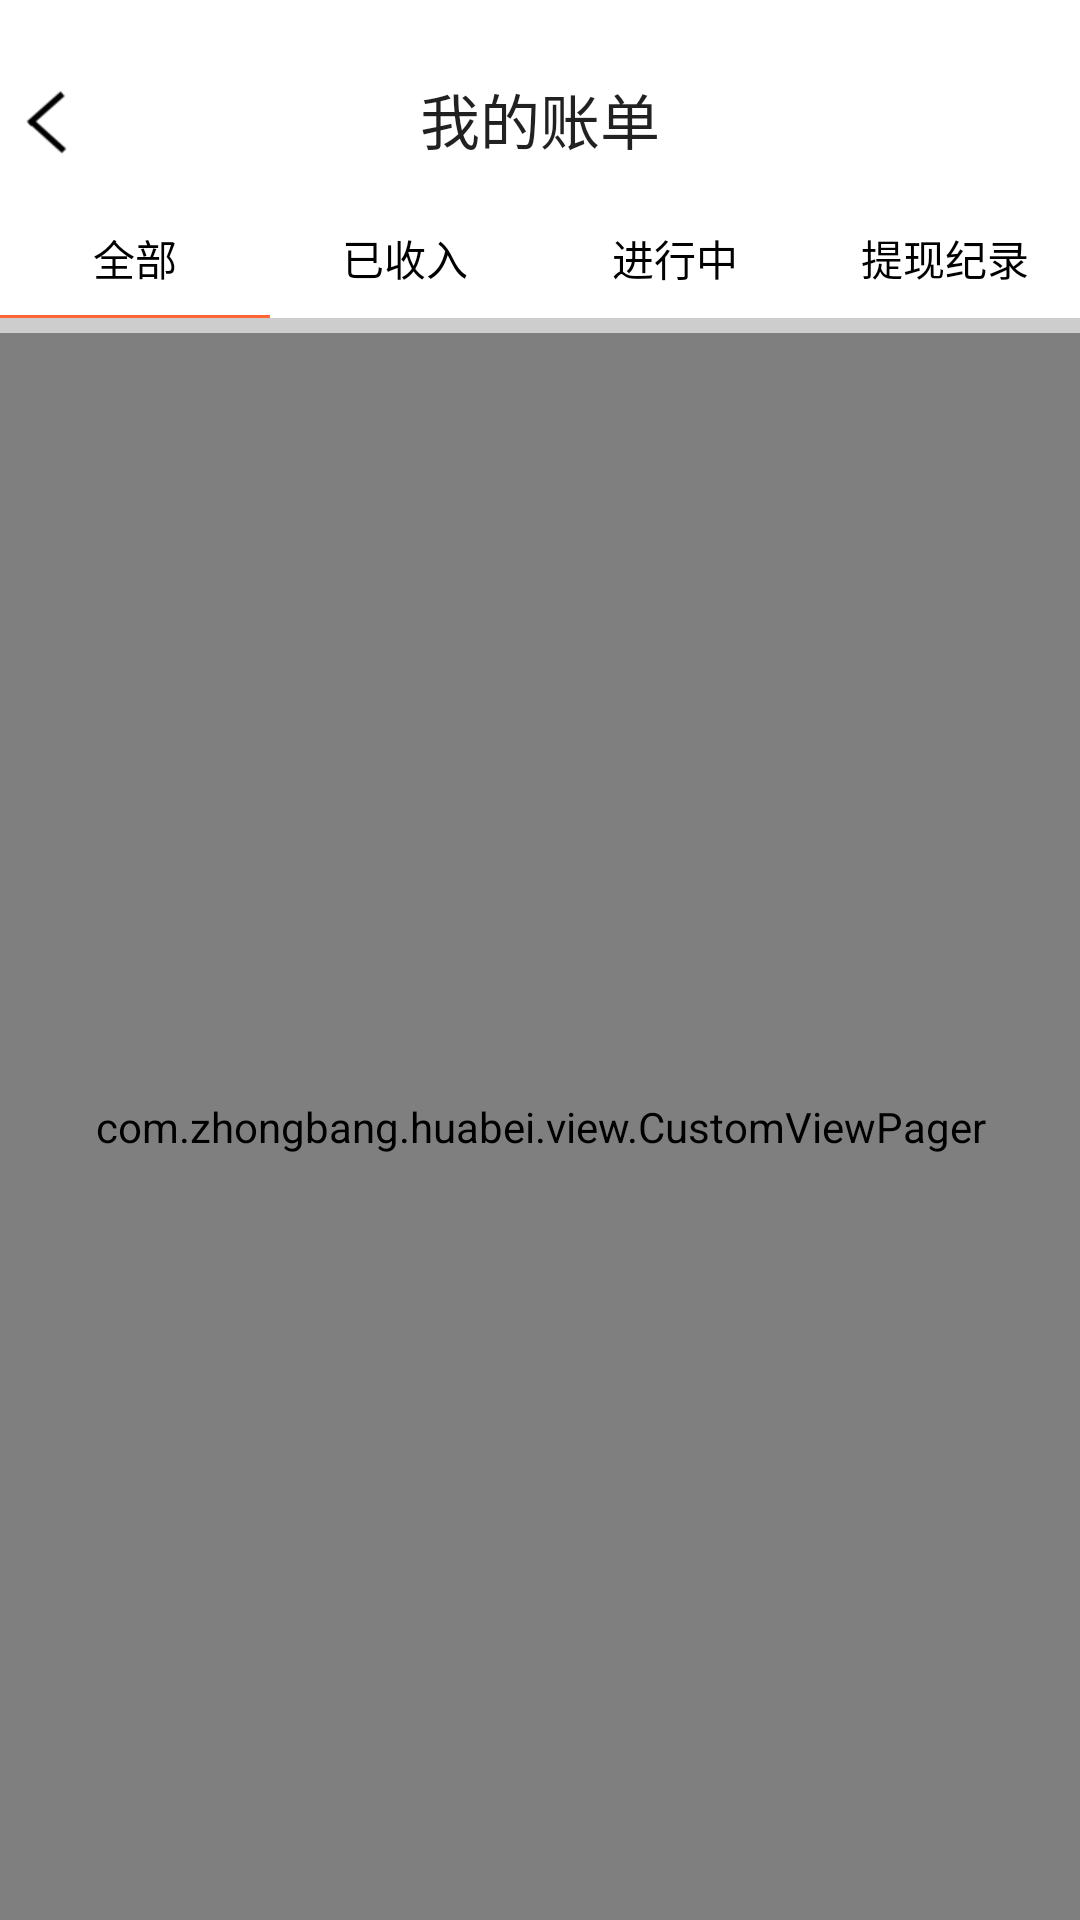

Where icons sit on this 1080x1920 app screen, as BBox(x1, y1, x2, y2):
back: BBox(27, 91, 66, 153)
